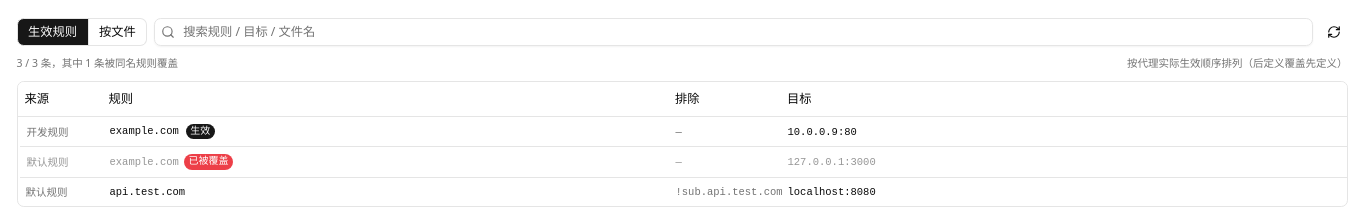
RuleOverviewPanel › filters rules by keyword and shows counts
The image size is (1365, 224).
In the field labelled "搜索规则": (733, 32) [154,18,1313,46], type "api.test"
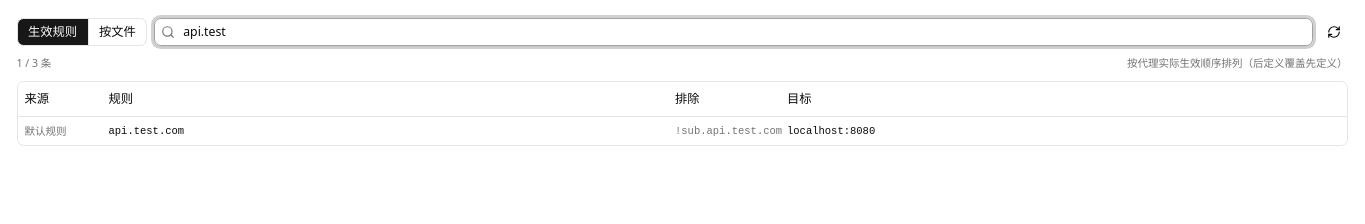
Expected: the text "api.test.com" is shown, [102,117,668,145]
Now the text "example.com" is not shown
Now the text "1 / 3 条" is shown, box [16,56,51,70]
